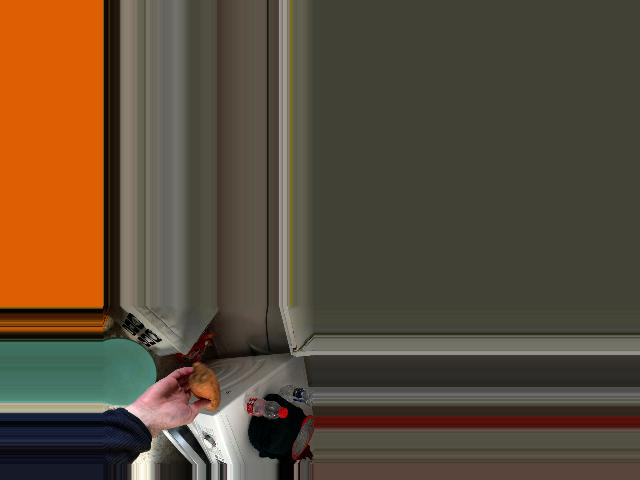sweet_potato: (184, 367, 220, 408)
